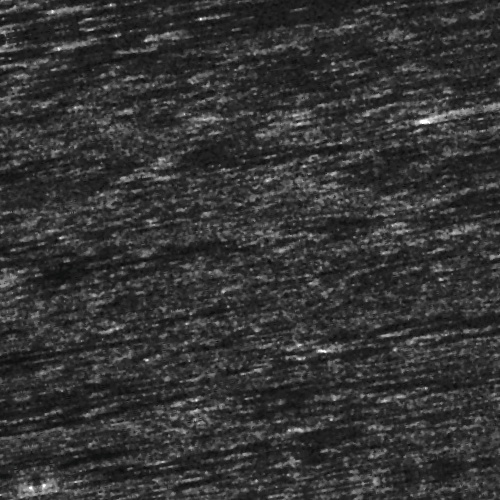object: (0, 439, 145, 460), (0, 2, 77, 11), (0, 233, 51, 246), (92, 12, 175, 19), (479, 34, 500, 53), (459, 145, 490, 154), (313, 356, 354, 361), (482, 306, 500, 315), (162, 394, 203, 397), (199, 23, 230, 26)
shadow: (36, 439, 351, 460), (35, 2, 363, 11), (25, 233, 224, 246), (134, 12, 471, 19), (333, 356, 500, 361), (215, 23, 489, 26), (183, 394, 448, 397), (0, 313, 141, 318), (475, 145, 500, 154)
